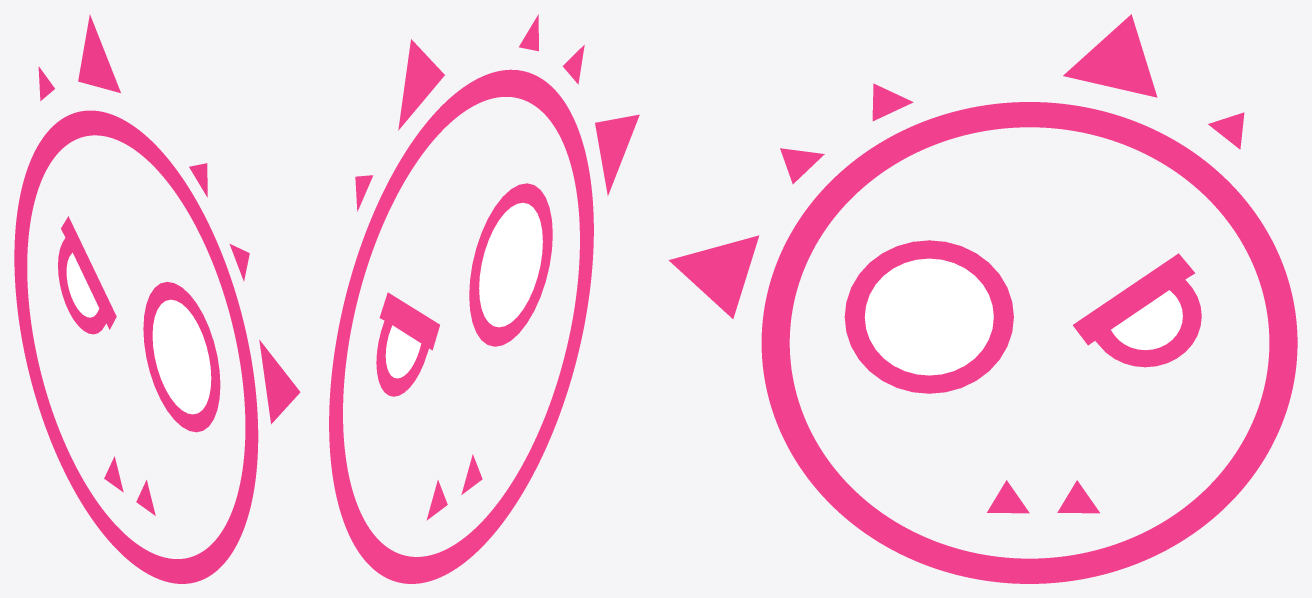
Rendered from blixer_confused.glb.
3 views of the same model, side by side, from view 1: azimuth 30°, elevation 25°; view 2: azimuth 150°, elevation 25°; view 3: azimuth 270°, elevation 25° (orthographic). The views are drawn at different scales.
Visible parts, largest first — view 1: Object_12, Object_10, Object_4, Object_3, Object_11; view 2: Object_12, Object_10, Object_4, Object_3, Object_11, Object_7; view 3: Object_12, Object_10, Object_4, Object_3, Object_11, Object_7, Object_8.
Boxes of the visible parts, bbox=[...] form: Object_12: bbox=[14, 110, 300, 583]; Object_10: bbox=[152, 299, 211, 414]; Object_4: bbox=[58, 216, 116, 334]; Object_3: bbox=[78, 14, 120, 92]; Object_11: bbox=[66, 252, 99, 317]; Object_12: bbox=[329, 69, 639, 583]; Object_10: bbox=[479, 202, 542, 327]; Object_4: bbox=[376, 292, 439, 396]; Object_3: bbox=[398, 39, 444, 130]; Object_11: bbox=[385, 325, 421, 378]; Object_7: bbox=[562, 45, 584, 84]; Object_12: bbox=[668, 102, 1297, 583]; Object_10: bbox=[864, 258, 993, 375]; Object_4: bbox=[1073, 253, 1201, 367]; Object_3: bbox=[1063, 14, 1157, 97]; Object_11: bbox=[1111, 290, 1182, 350]; Object_7: bbox=[780, 148, 824, 184]; Object_8: bbox=[872, 83, 913, 120].
Bounding box in the file's own units: 2e-06 × 62.52 × 62.55.
